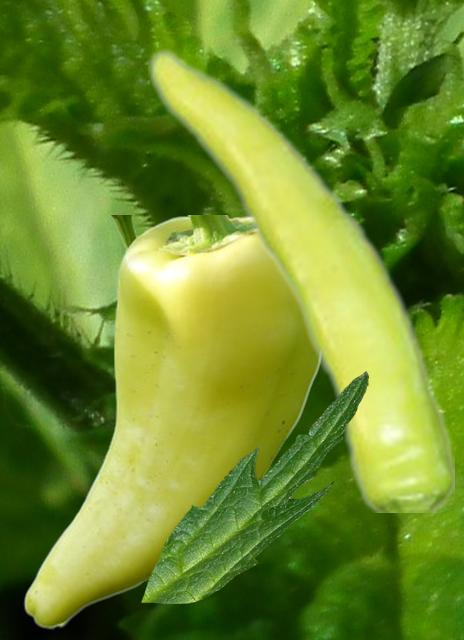green_chili: (148, 46, 453, 511), (23, 215, 320, 629)
